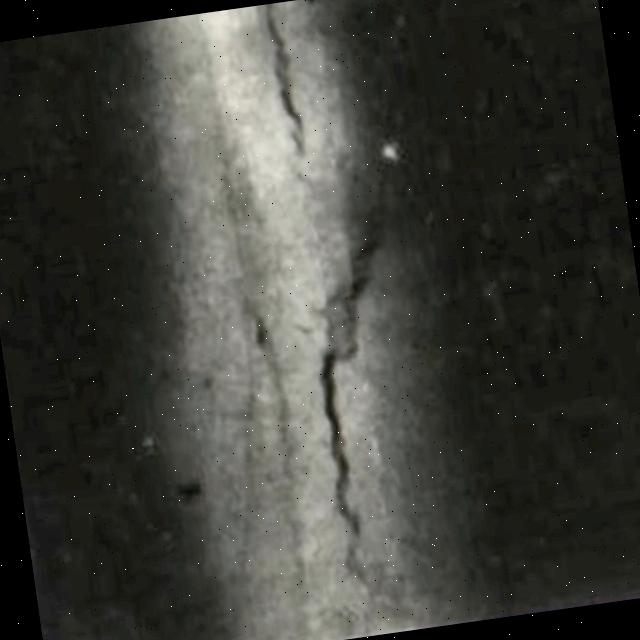Crack: (280, 254, 457, 607), (219, 0, 340, 205)
